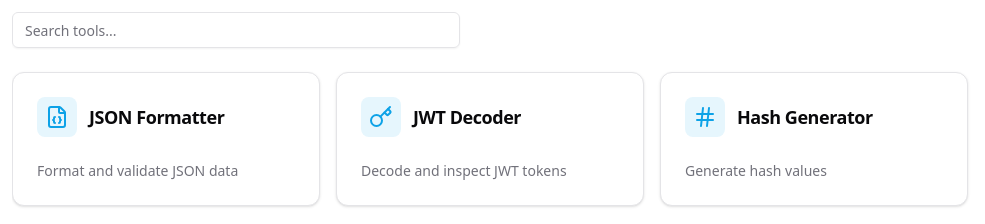
Test: ToolGrid › Search Functionality › should filter cards to only matching tools
Type "json" into the field at (236, 30), box [12,12,460,48]
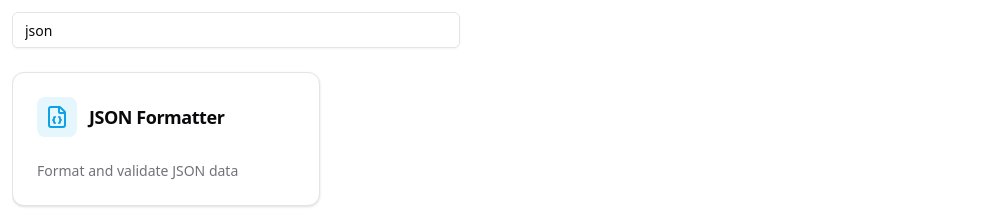
Check: the link "JSON Formatter Format and validate JSON data" is shown, box [12,72,320,206]
Check: the link "JWT Decoder" is gone
